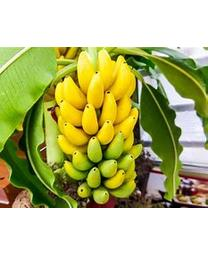banana: (50, 47, 143, 203)
